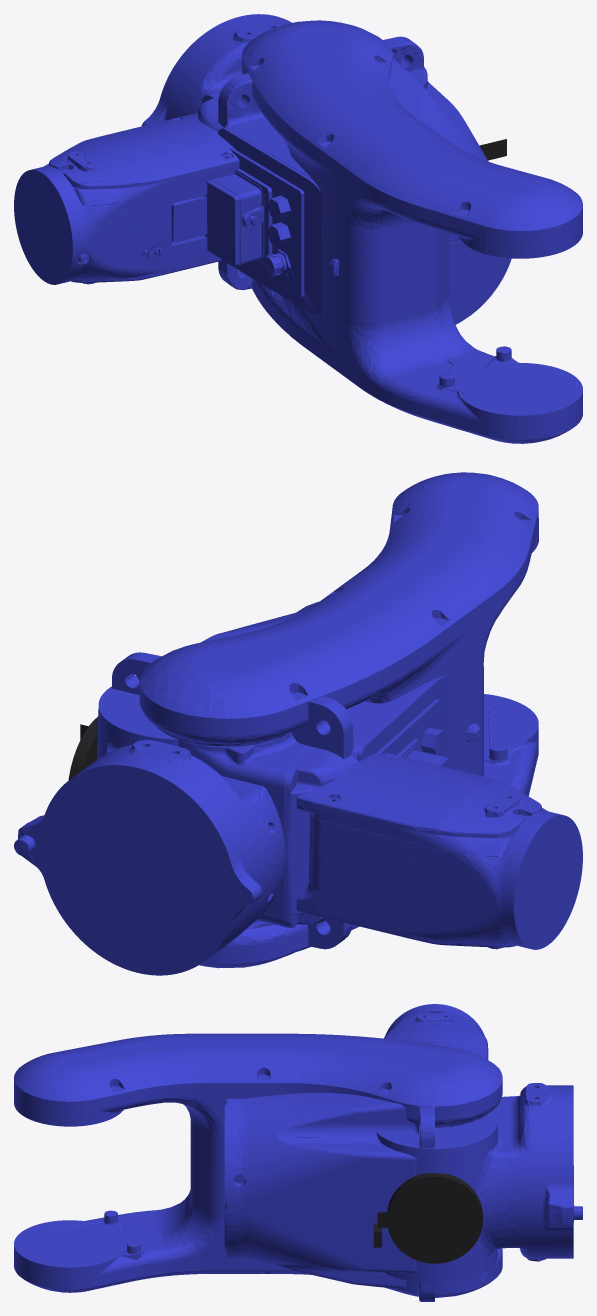
File: arm.glb
3 views of the same model, one above another, from view 1: azimuth 30°, elevation 25°; view 2: azimuth 150°, elevation 25°; view 3: azimuth 270°, elevation 25° (orthographic). The views are drawn at different scales.
Parts seen in each view (by area): view 1: b3, b5, b1, b2, b4; view 2: b3, b2, b5, b1, b4, b7; view 3: b3, b1, b2, b7, b5.
Part boxes in pixels (x1,y1,x2,y2): b3: (242, 20, 582, 443); b5: (14, 113, 239, 284); b1: (204, 36, 511, 324); b2: (141, 14, 427, 126); b4: (198, 91, 241, 132); b3: (139, 472, 538, 968); b2: (14, 676, 285, 975); b5: (296, 753, 582, 949); b1: (112, 601, 480, 949); b4: (178, 732, 357, 927); b7: (68, 716, 98, 779); b3: (14, 1033, 502, 1297); b1: (224, 1042, 434, 1301); b2: (376, 1083, 582, 1283); b7: (373, 1173, 482, 1263); b5: (384, 1004, 488, 1059).
Bounding box in the file's own units: 0.4208 × 0.23 × 0.5379.
